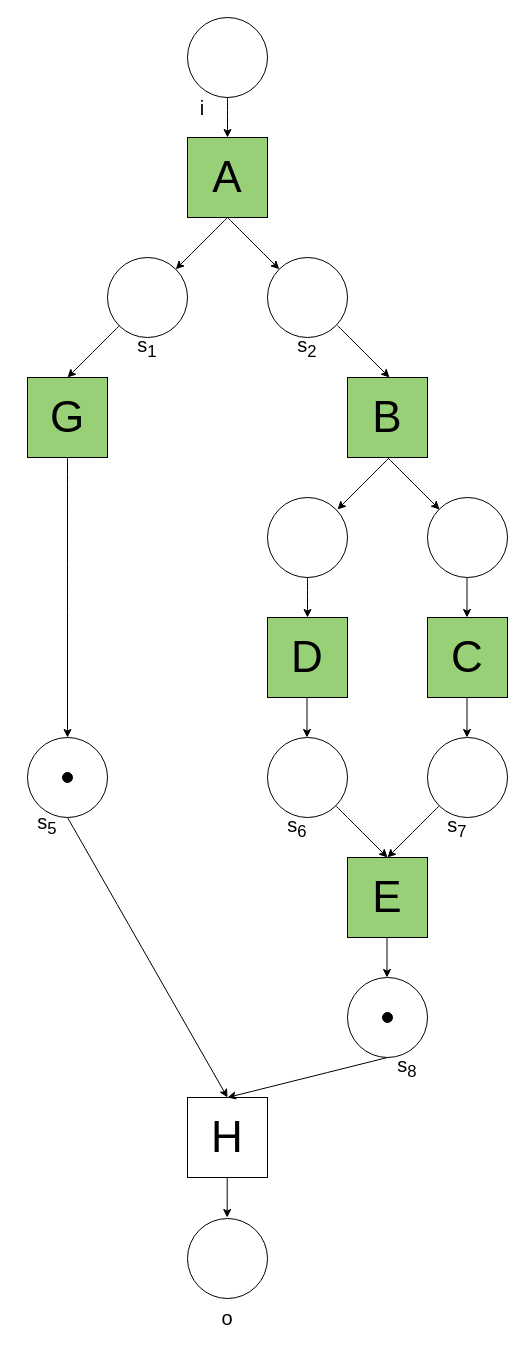
Image size: 525x1355. Some labels were removed from this diagram. The centre of each missing label's shape, as x and y in pixels:
s 3: pixel 307 537
s 4: pixel 467 537
